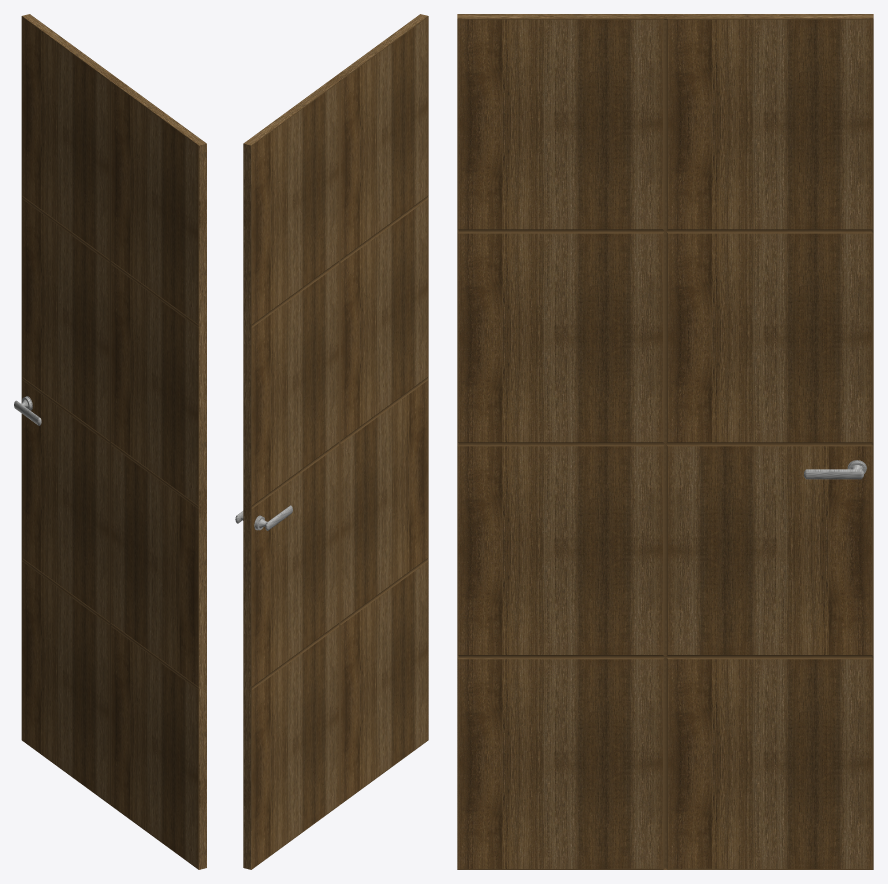
The model's file is puertart.obj.
The picture shows the model from 3 angles, left to right: view 1: azimuth 30°, elevation 25°; view 2: azimuth 150°, elevation 25°; view 3: azimuth 270°, elevation 25°; orthographic projection. The views are drawn at different scales.
Visible parts, largest first — view 1: group puertart2:doorpasted__pasted__pasted__grouppasted__pasted_; view 2: group puertart2:doorpasted__pasted__pasted__grouppasted__pasted_, puertart1:DoorFBXASC032Rodos001handle001opendoor001pasted__paste; view 3: group puertart2:doorpasted__pasted__pasted__grouppasted__pasted_, puertart1:DoorFBXASC032Rodos001handle001opendoor001pasted__paste.
Boxes of the visible parts, left/top/right/bottom form: group puertart2:doorpasted__pasted__pasted__grouppasted__pasted_: left=21, top=14, right=206, bottom=869; group puertart2:doorpasted__pasted__pasted__grouppasted__pasted_: left=243, top=14, right=428, bottom=869; puertart1:DoorFBXASC032Rodos001handle001opendoor001pasted__paste: left=235, top=505, right=292, bottom=530; group puertart2:doorpasted__pasted__pasted__grouppasted__pasted_: left=457, top=14, right=873, bottom=869; puertart1:DoorFBXASC032Rodos001handle001opendoor001pasted__paste: left=804, top=460, right=866, bottom=479.
Bounding box in the file's own units: 1.67 × 34.13 × 15.12.
2 materials, 2 textured.
